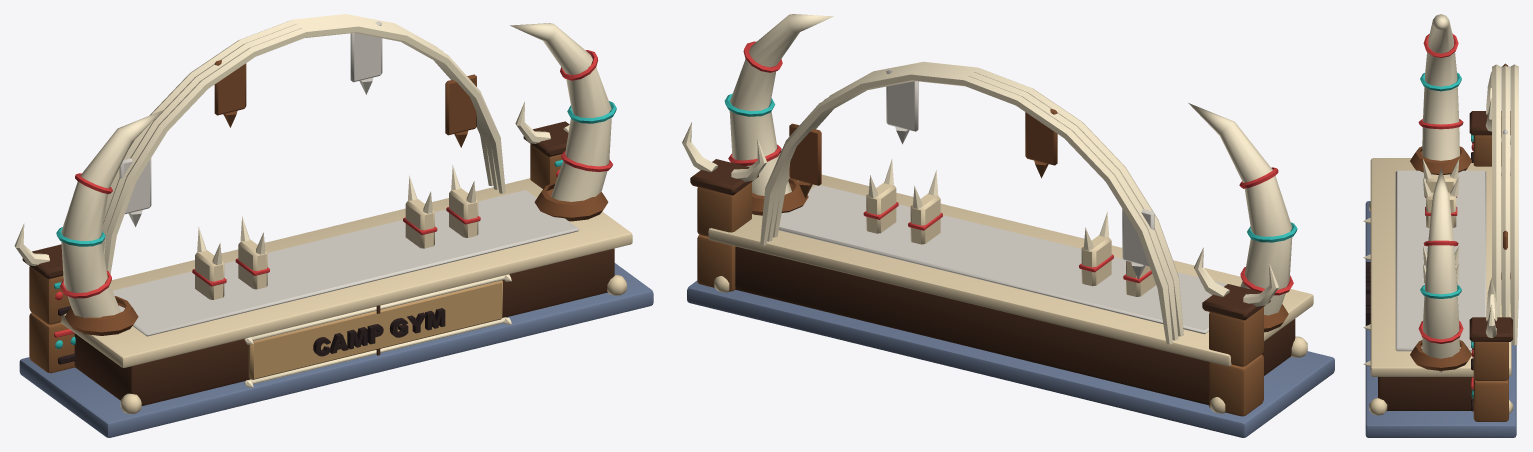
File: st_07_mammoth.glb
3 renders of one model, left to right at view 1: azimuth 30°, elevation 25°; view 2: azimuth 150°, elevation 25°; view 3: azimuth 270°, elevation 25°, orthographic. The views are drawn at different scales.
Visible parts, largest first — view 1: st_07_mammoth; view 2: st_07_mammoth; view 3: st_07_mammoth.
Part boxes in pixels (x1,y1,x2,y2): st_07_mammoth: (14, 14, 653, 437); st_07_mammoth: (682, 14, 1334, 437); st_07_mammoth: (1363, 14, 1518, 437).
Bounding box in the file's own units: 11.29 × 5.35 × 3.1.
